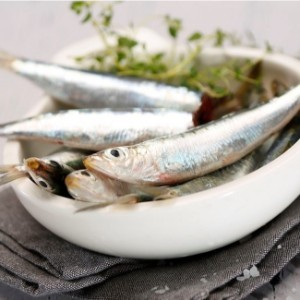sardine_brain food: (20, 53, 265, 200)
